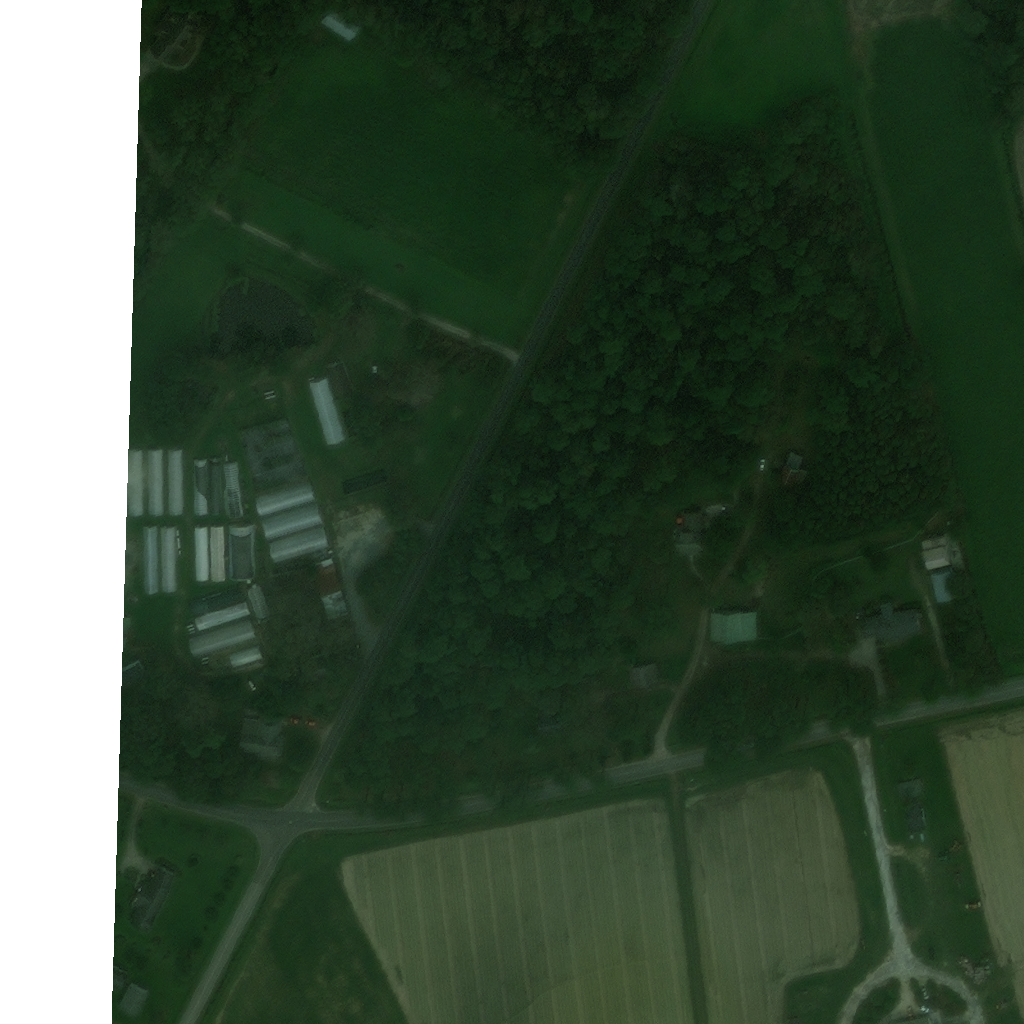destroyed: (323, 357, 351, 397), (341, 470, 385, 495)
major_damage: (268, 555, 346, 621), (187, 586, 242, 616), (227, 522, 255, 579), (220, 460, 245, 519), (192, 458, 207, 514), (209, 460, 219, 513)
no_damage: (145, 0, 199, 59), (127, 864, 175, 928), (187, 619, 256, 658), (235, 710, 285, 760), (858, 600, 921, 639), (308, 377, 343, 443), (265, 527, 328, 563), (258, 503, 322, 538), (253, 481, 313, 518), (318, 0, 365, 38), (193, 600, 248, 631), (709, 607, 755, 639), (668, 508, 700, 553), (919, 532, 960, 564), (286, 651, 329, 680), (773, 448, 805, 485), (167, 449, 184, 516), (160, 526, 176, 592), (928, 566, 958, 601), (148, 448, 163, 516), (624, 659, 659, 688), (244, 583, 269, 622), (117, 981, 147, 1013), (143, 526, 156, 592), (208, 524, 223, 581), (192, 525, 207, 580), (902, 797, 925, 831), (228, 646, 262, 669), (131, 449, 142, 516), (126, 656, 148, 685), (894, 777, 920, 798), (885, 1011, 926, 1023), (117, 968, 127, 987)
unclassified: (530, 689, 566, 733), (400, 368, 436, 411)
